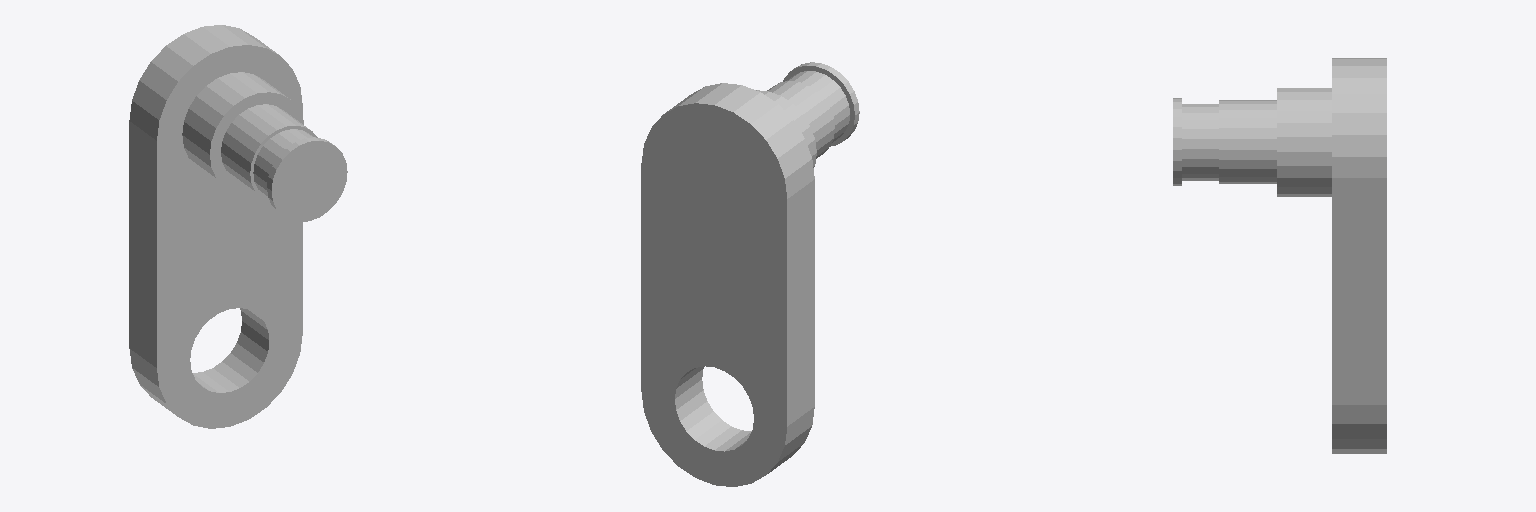
File: RS_LinkC_v1.obj
3 renders of one model, left to right at view 1: azimuth 30°, elevation 25°; view 2: azimuth 150°, elevation 25°; view 3: azimuth 270°, elevation 25°, orthographic.
Visible parts, largest first — view 1: Mesh5 Group1 Model, Mesh1 Group3 Group2 Group1 Model, Mesh3 Group5 _____29_1 Group2 Group1 Model, Mesh2 Group4 _____29_1 Group2 Group1 Model, Mesh4 Group6 _____29_1 Group2 Group1 Model; view 2: Mesh5 Group1 Model, Mesh2 Group4 _____29_1 Group2 Group1 Model, Mesh4 Group6 _____29_1 Group2 Group1 Model, Mesh3 Group5 _____29_1 Group2 Group1 Model, Mesh1 Group3 Group2 Group1 Model; view 3: Mesh5 Group1 Model, Mesh1 Group3 Group2 Group1 Model, Mesh2 Group4 _____29_1 Group2 Group1 Model, Mesh4 Group6 _____29_1 Group2 Group1 Model, Mesh3 Group5 _____29_1 Group2 Group1 Model.
Boxes of the visible parts, <box> form: Mesh5 Group1 Model: <box>129,25,302,428</box>; Mesh1 Group3 Group2 Group1 Model: <box>182,72,303,193</box>; Mesh3 Group5 _____29_1 Group2 Group1 Model: <box>267,137,347,221</box>; Mesh2 Group4 _____29_1 Group2 Group1 Model: <box>221,104,317,201</box>; Mesh4 Group6 _____29_1 Group2 Group1 Model: <box>253,129,312,198</box>; Mesh5 Group1 Model: <box>641,83,814,486</box>; Mesh2 Group4 _____29_1 Group2 Group1 Model: <box>767,81,834,158</box>; Mesh4 Group6 _____29_1 Group2 Group1 Model: <box>787,71,849,142</box>; Mesh3 Group5 _____29_1 Group2 Group1 Model: <box>783,62,859,146</box>; Mesh1 Group3 Group2 Group1 Model: <box>756,90,816,167</box>; Mesh5 Group1 Model: <box>1332,58,1386,453</box>; Mesh1 Group3 Group2 Group1 Model: <box>1277,88,1331,196</box>; Mesh2 Group4 _____29_1 Group2 Group1 Model: <box>1219,100,1276,183</box>; Mesh4 Group6 _____29_1 Group2 Group1 Model: <box>1182,104,1218,180</box>; Mesh3 Group5 _____29_1 Group2 Group1 Model: <box>1173,98,1181,185</box>.
Bounding box in the file's own units: 9.2 × 22.9 × 11.7.